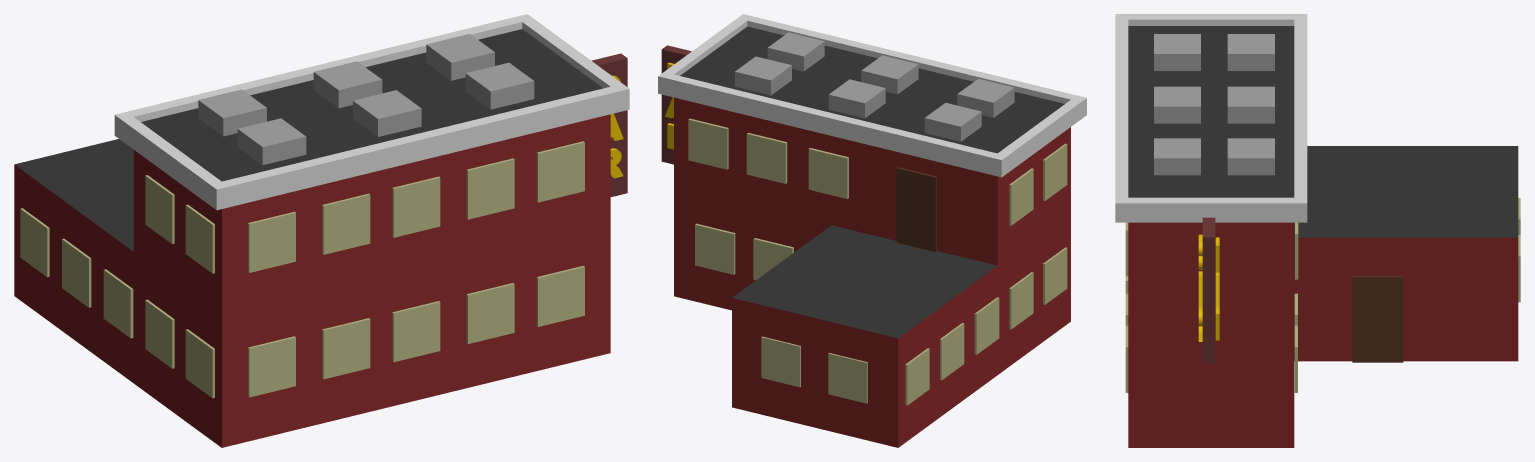
File: Bar_01.fbx
3 renders of one model, left to right at view 1: azimuth 30°, elevation 25°; view 2: azimuth 150°, elevation 25°; view 3: azimuth 270°, elevation 25°, orthographic. The views are drawn at different scales.
Visible parts, largest first — view 1: Building, Window_11, Window_4, Window_10, Window_5, Window_8, Window_13, Window_6, Window_12, Window_9, Window_7, pCube7 (+13 smaller); view 2: Building, Door_2, Window_2, Window_14, Window_16, Window_1, Window_19, Window_18, pCube4, pCube6, pCube3, pCube5 (+11 smaller); view 3: Building, Door_1, Sign, pCube4, pCube3, pCube5, pCube2, pCube6, pCube7, polySurface3, polySurface4.
Part boxes in pixels (x1=…): Building: x1=14, y1=14, x2=629, y2=447; Window_11: x1=392, y1=301, x2=440, y2=362; Window_4: x1=466, y1=158, x2=514, y2=219; Window_10: x1=322, y1=318, x2=370, y2=379; Window_5: x1=392, y1=176, x2=440, y2=237; Window_8: x1=322, y1=193, x2=370, y2=254; Window_13: x1=536, y1=265, x2=584, y2=326; Window_6: x1=536, y1=141, x2=584, y2=202; Window_12: x1=466, y1=283, x2=514, y2=343; Window_9: x1=248, y1=336, x2=295, y2=397; Window_7: x1=248, y1=211, x2=295, y2=272; pCube7: x1=237, y1=118, x2=306, y2=164; Building: x1=658, y1=14, x2=1086, y2=447; Door_2: x1=896, y1=167, x2=936, y2=252; Window_2: x1=746, y1=133, x2=787, y2=183; Window_14: x1=688, y1=118, x2=728, y2=169; Window_16: x1=695, y1=223, x2=735, y2=274; Window_1: x1=808, y1=148, x2=848, y2=198; Window_19: x1=828, y1=353, x2=867, y2=403; Window_18: x1=761, y1=336, x2=800, y2=387; pCube4: x1=828, y1=79, x2=885, y2=118; pCube6: x1=924, y1=102, x2=981, y2=141; pCube3: x1=735, y1=56, x2=791, y2=95; pCube5: x1=861, y1=55, x2=918, y2=94; Building: x1=1115, y1=14, x2=1518, y2=447; Door_1: x1=1352, y1=275, x2=1403, y2=362; Sign: x1=1202, y1=217, x2=1215, y2=363; pCube4: x1=1227, y1=86, x2=1274, y2=123; pCube3: x1=1227, y1=138, x2=1274, y2=175; pCube5: x1=1154, y1=86, x2=1200, y2=123; pCube2: x1=1154, y1=138, x2=1200, y2=175; pCube6: x1=1227, y1=34, x2=1274, y2=70; pCube7: x1=1154, y1=34, x2=1200, y2=70; polySurface3: x1=1198, y1=234, x2=1202, y2=341; polySurface4: x1=1215, y1=237, x2=1219, y2=340.
Bounding box in the file's own units: 44 × 25.53 × 35.93.
